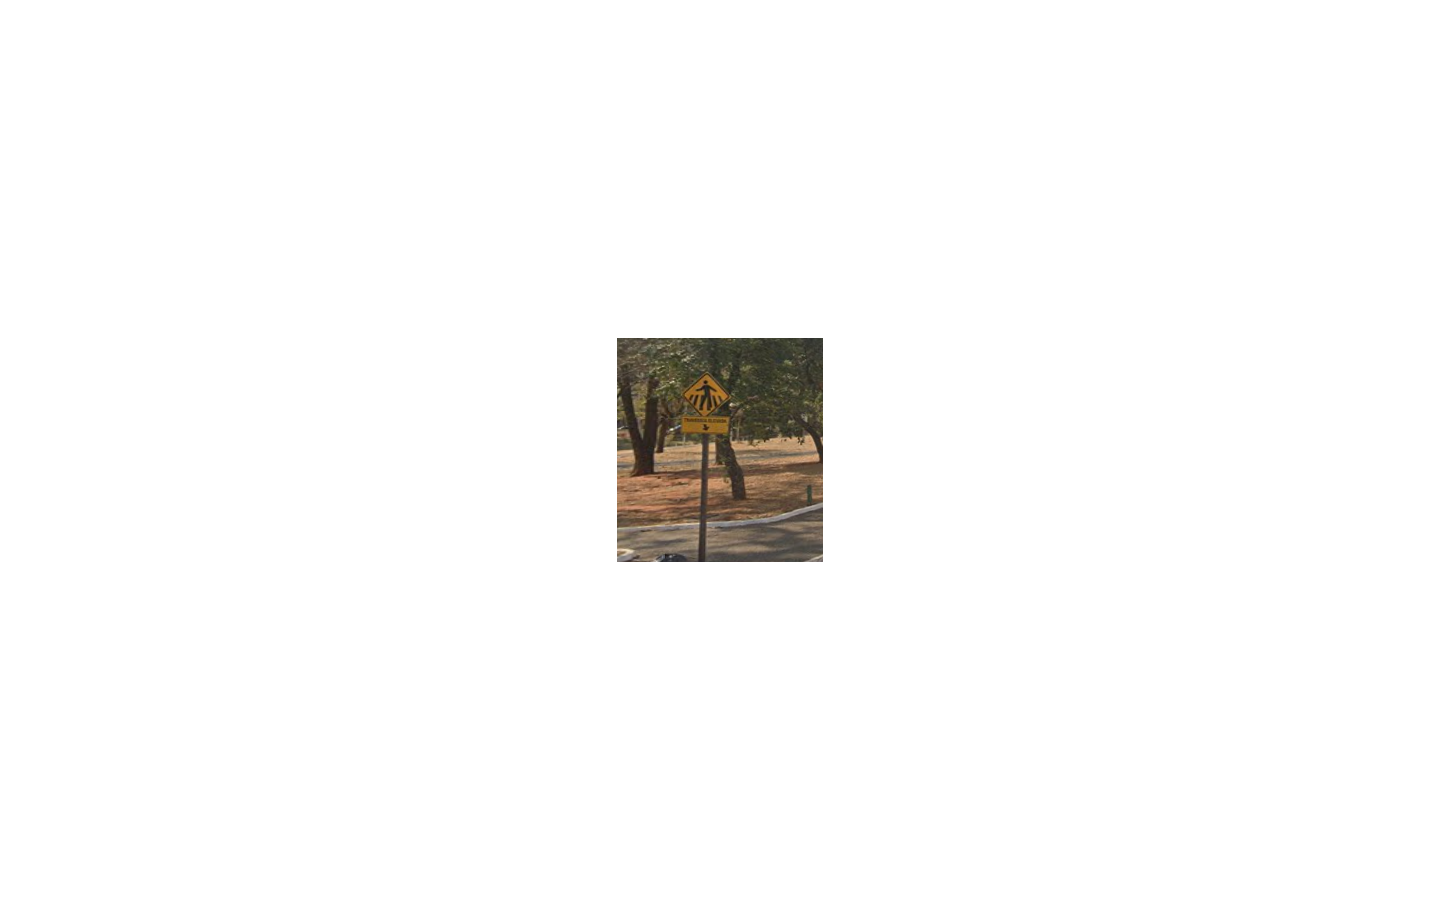telev: (682, 370, 731, 435)
